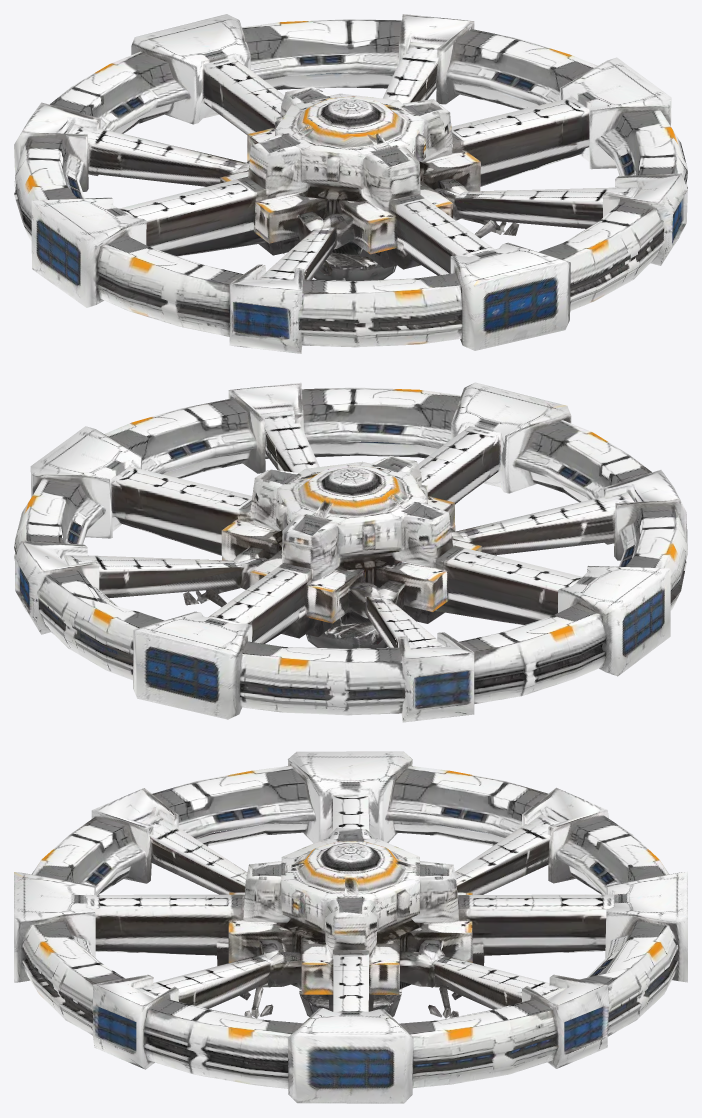
File: station_3.glb
3 renders of one model, top to bottom at view 1: azimuth 30°, elevation 25°; view 2: azimuth 150°, elevation 25°; view 3: azimuth 270°, elevation 25°, orthographic.
Parts seen in each view (by area): view 1: mesh_node; view 2: mesh_node; view 3: mesh_node.
Boxes of the visible parts, x1,y1,x2,y2 form: mesh_node: [14, 14, 687, 353]; mesh_node: [14, 382, 687, 722]; mesh_node: [14, 751, 687, 1103].
Bounding box in the file's own units: 0.998 × 0.2647 × 1.
Materials: 1 (1 with a texture image).
